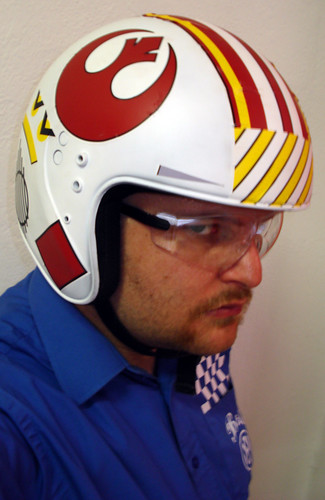helmet: (2, 7, 316, 208)
